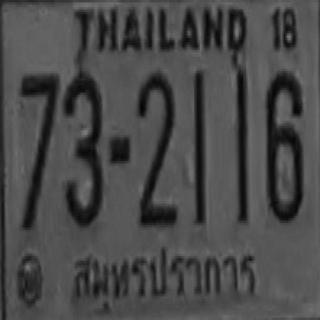N01: (234, 67, 247, 222), (192, 69, 204, 223)
N02: (136, 70, 174, 226)
N03: (62, 70, 101, 224)
N06: (264, 69, 302, 220)
N07: (18, 71, 57, 228), (19, 71, 57, 180)
P57: (70, 239, 260, 320)
